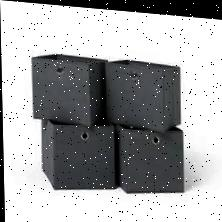cube: (104, 54, 184, 130), (38, 116, 116, 192), (28, 51, 104, 123), (116, 120, 184, 195)
